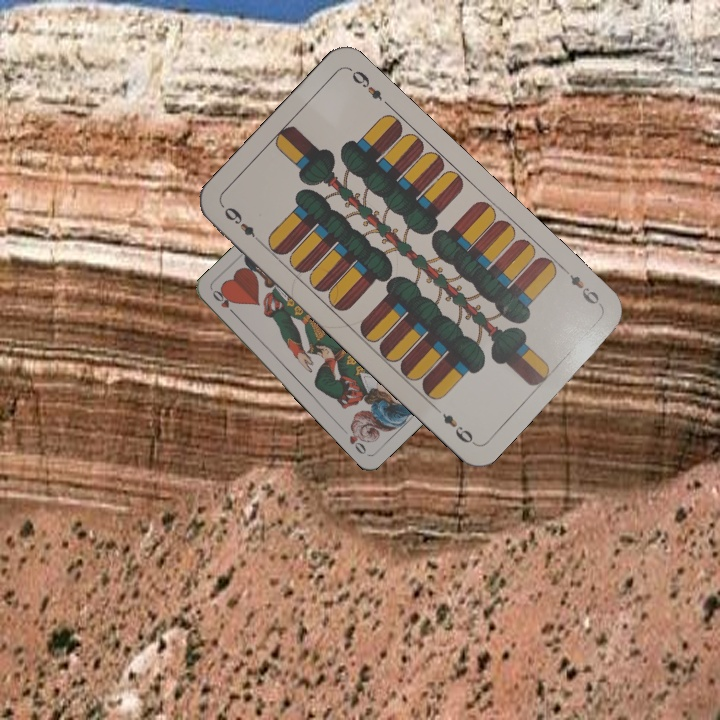E9: (218, 202, 265, 246), (558, 265, 602, 307)
HO: (208, 286, 240, 319)
